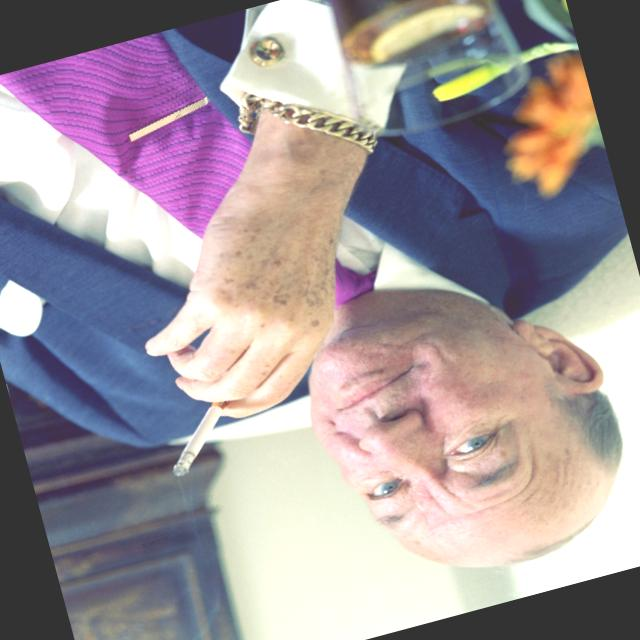cigarette: (131, 393, 229, 492)
